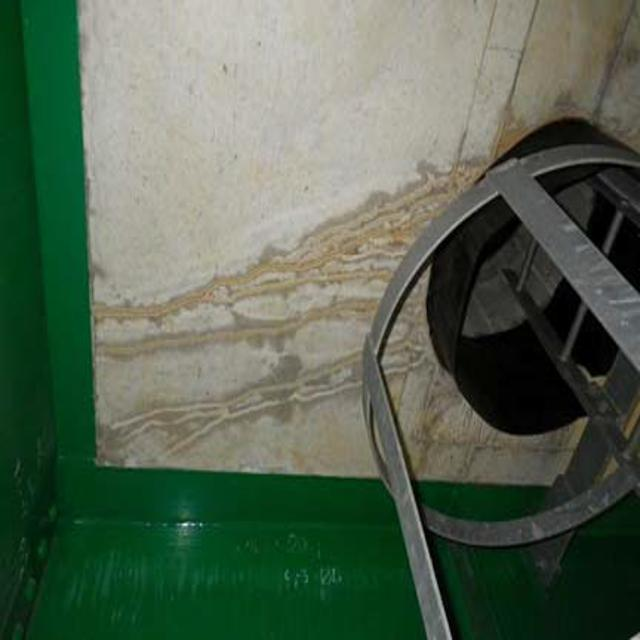leakage: (94, 111, 433, 470)
